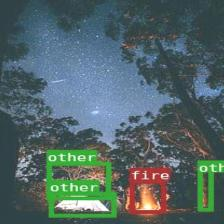fire: (129, 180, 165, 212)
